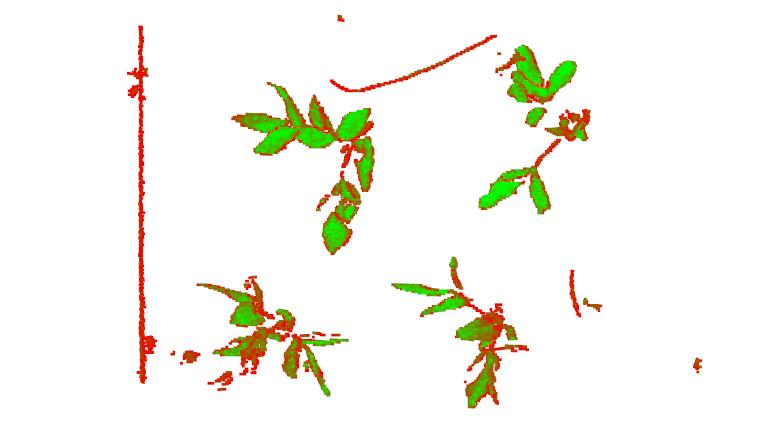mungbean: (223, 72, 382, 251), (385, 253, 534, 414), (479, 41, 604, 216), (209, 272, 343, 402)
